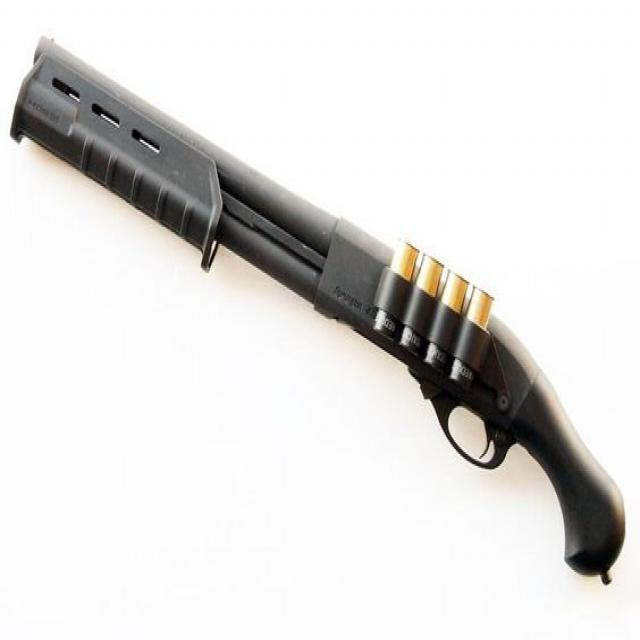shotgun: (8, 11, 640, 628)
